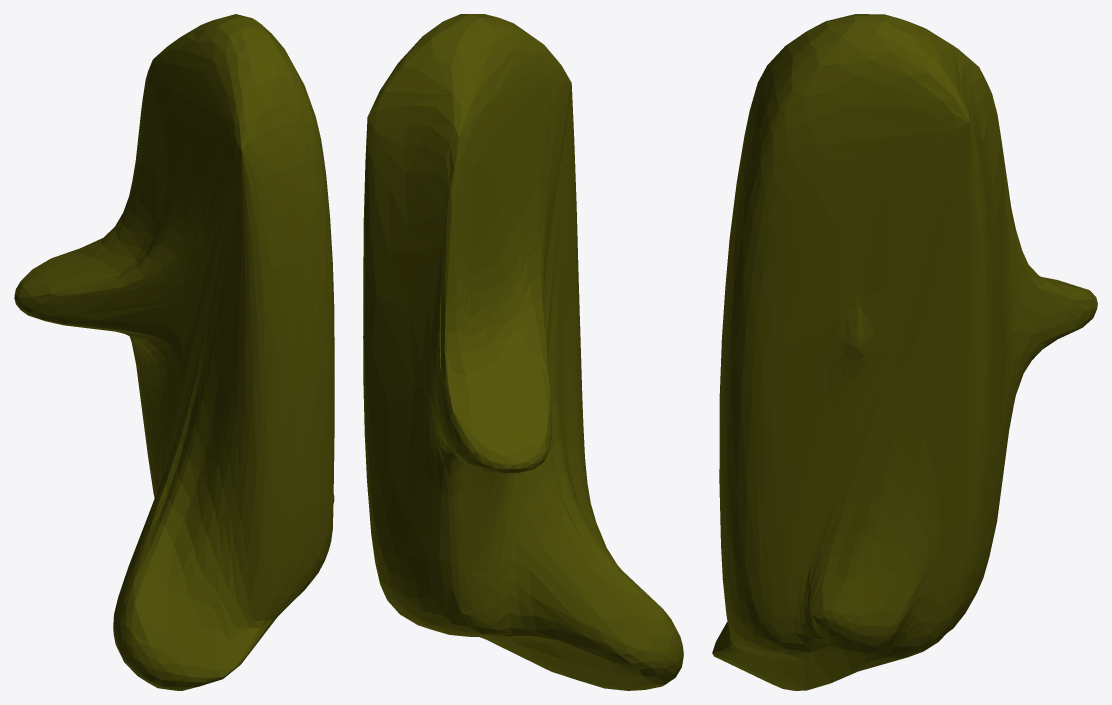
3 renders of one model, left to right at view 1: azimuth 30°, elevation 25°; view 2: azimuth 150°, elevation 25°; view 3: azimuth 270°, elevation 25°, orthographic. The views are drawn at different scales.
Visible parts, largest first — view 1: 994_Cube.4012; view 2: 994_Cube.4012; view 3: 994_Cube.4012.
Boxes of the visible parts, x1,y1,x2,y2 form: 994_Cube.4012: [14, 14, 334, 690]; 994_Cube.4012: [363, 14, 683, 690]; 994_Cube.4012: [712, 14, 1097, 690].
Bounding box in the file's own units: 5.2 × 13.01 × 6.4.
